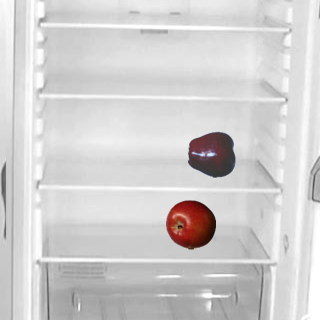Apple Braeburn: (165, 199, 215, 249)
Apple Red Delicious: (187, 129, 237, 179)
